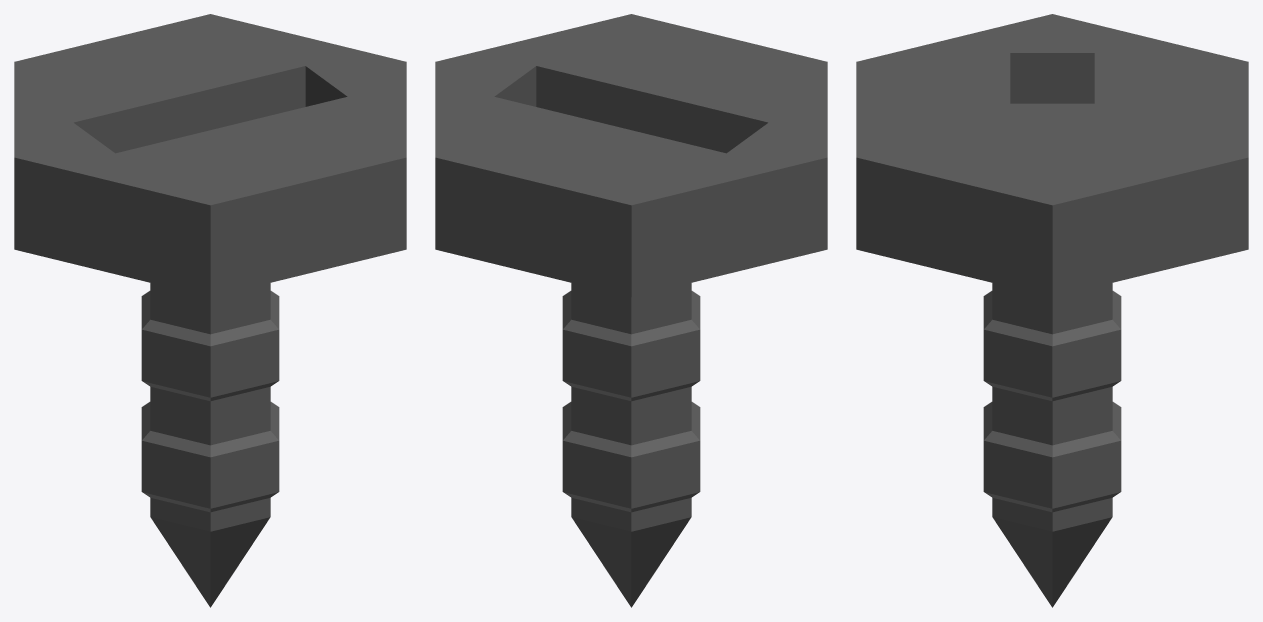
The model's file is Parafuso.fbx.
3 views of the same model, side by side, from view 1: azimuth 30°, elevation 25°; view 2: azimuth 150°, elevation 25°; view 3: azimuth 270°, elevation 25° (orthographic).
Visible parts, largest first — view 1: Parafuso; view 2: Parafuso; view 3: Parafuso.
Boxes of the visible parts, bbox=[...] form: Parafuso: bbox=[14, 14, 406, 607]; Parafuso: bbox=[435, 14, 827, 607]; Parafuso: bbox=[856, 14, 1248, 607].
Size of the model in its own units: 59.14 by 71.81 by 51.22.
